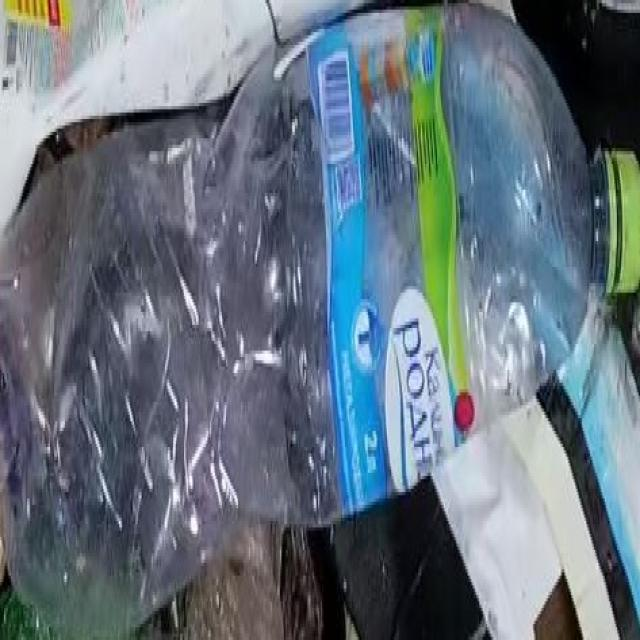plasticbottle: (13, 8, 640, 580)
